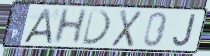0: (142, 11, 169, 49)
A: (21, 8, 53, 45)
D: (80, 8, 113, 47)
H: (51, 7, 90, 46)
J: (171, 13, 198, 48)
X: (109, 8, 144, 49)
